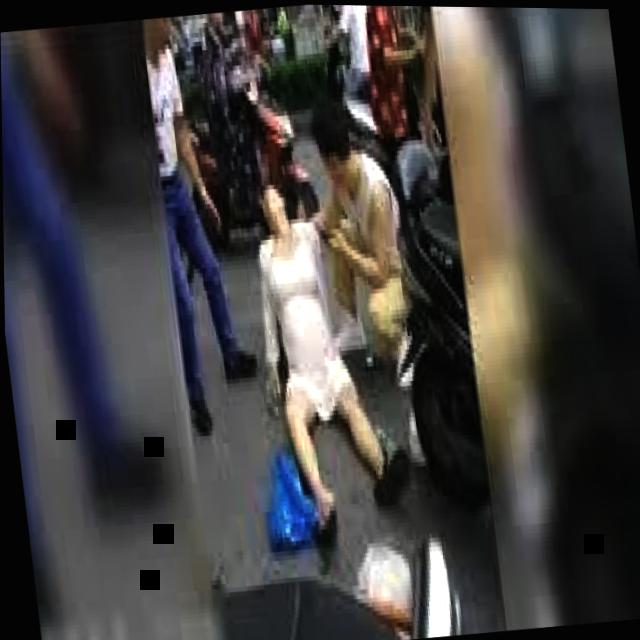Fall-Detected: (221, 149, 426, 553)
